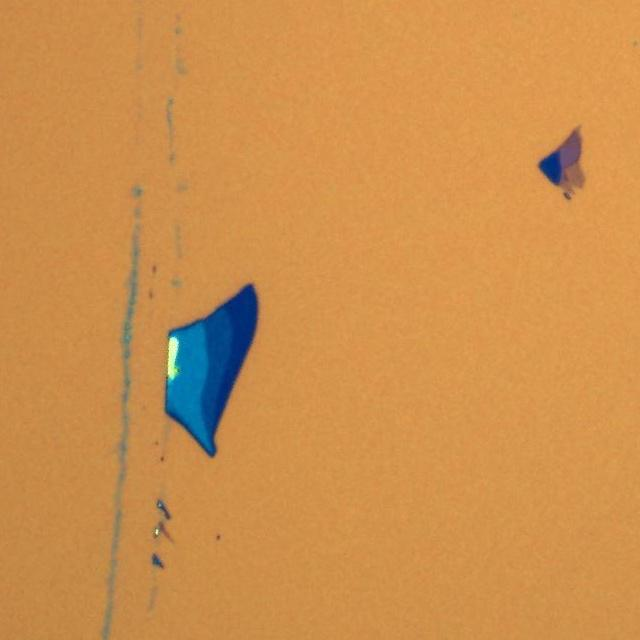monolayer-eWW4: (560, 162, 586, 195)
